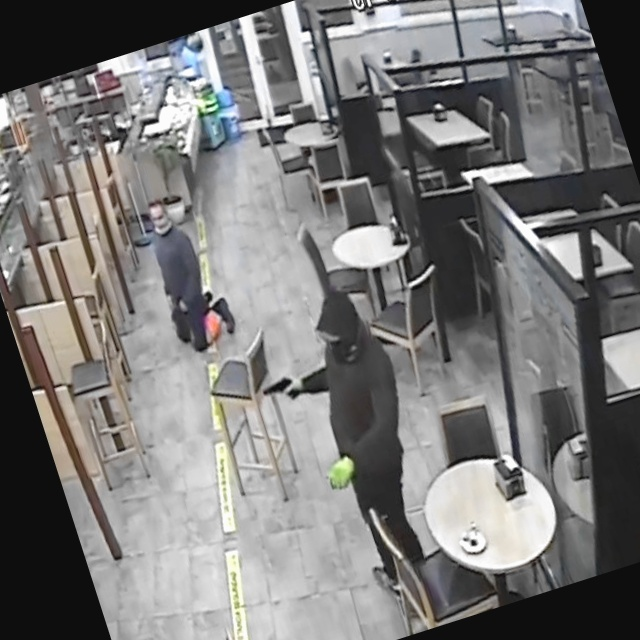gun: (246, 356, 315, 426)
